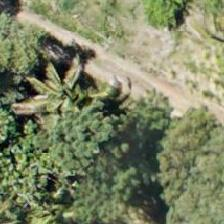coconut_tree: (11, 176, 101, 223)
